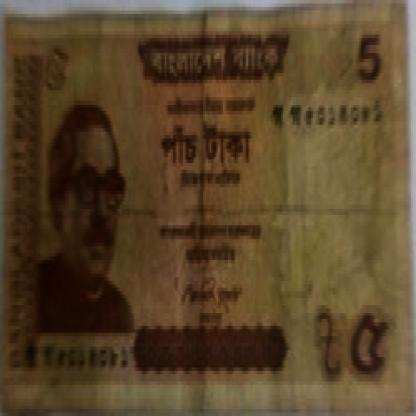Five Taka: (157, 108, 254, 180), (351, 288, 394, 381), (346, 24, 384, 94)
